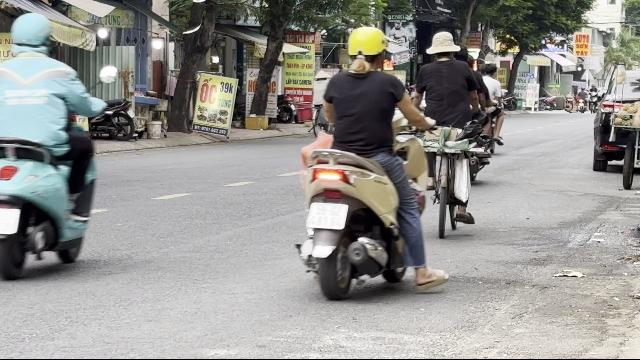helmet: (345, 25, 389, 71), (8, 12, 54, 56)
licenseplate: (308, 204, 346, 228)
motorcyclist: (292, 24, 436, 300), (0, 10, 104, 280)
